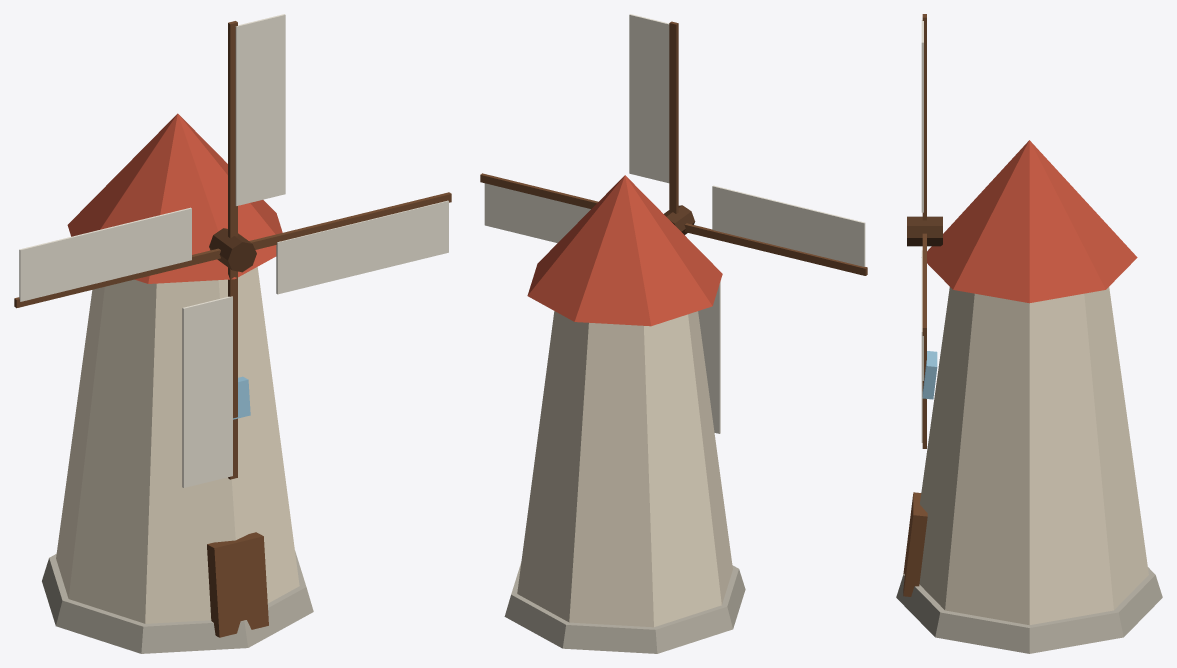
The model's file is windmill.glb.
The picture shows the model from 3 angles, left to right: view 1: azimuth 30°, elevation 25°; view 2: azimuth 150°, elevation 25°; view 3: azimuth 270°, elevation 25°; orthographic projection. The views are drawn at different scales.
Visible parts, largest first — view 1: Windmill, Blade3, Blade0, Blade1, Blade2, Rotor; view 2: Windmill, Blade1, Blade0, Blade3, Blade2; view 3: Windmill, Blade0, Rotor, Blade3, Blade2.
Boxes of the visible parts, x1,y1,x2,y2 form: Windmill: (42, 113, 313, 653); Blade3: (249, 192, 451, 294); Blade0: (228, 14, 285, 238); Blade1: (14, 207, 220, 308); Blade2: (182, 267, 237, 487); Rotor: (209, 228, 256, 272); Windmill: (504, 175, 745, 653); Blade1: (684, 185, 867, 275); Blade0: (629, 14, 678, 213); Blade3: (480, 173, 598, 242); Blade2: (698, 281, 720, 433); Windmill: (896, 140, 1162, 653); Blade0: (921, 14, 926, 220); Rotor: (907, 216, 942, 246); Blade3: (921, 233, 926, 380); Blade2: (921, 250, 926, 448).
Bounding box in the file's own units: 6.6 × 8.9 × 3.7.
